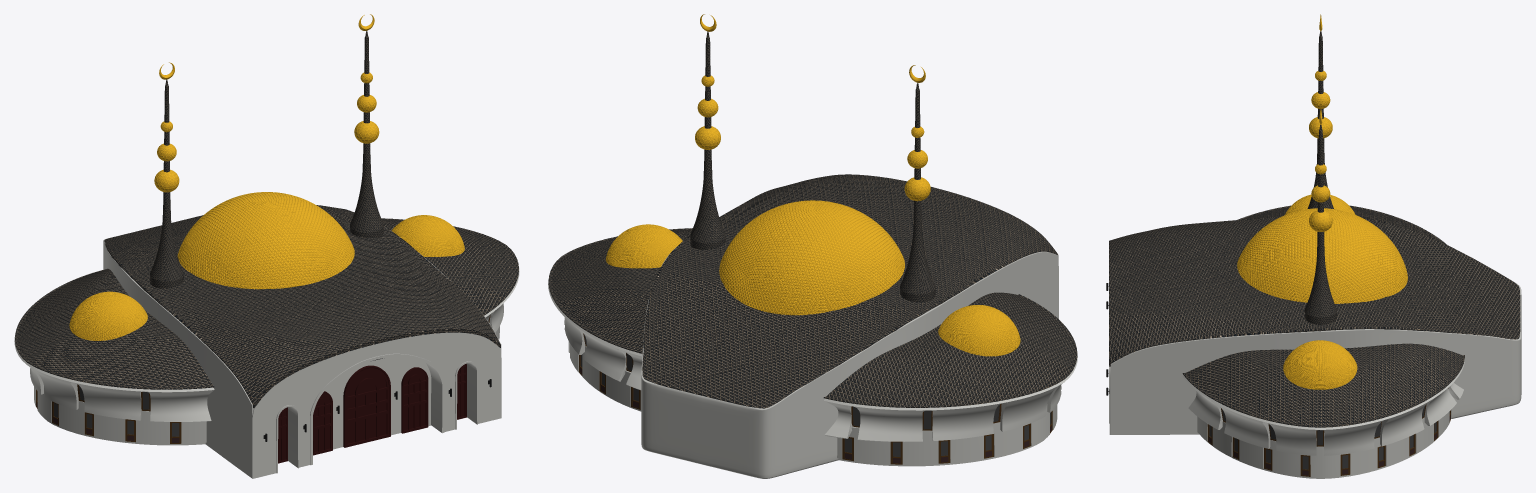
Rendered from afsonalar-vodiysi.glb.
3 views of the same model, side by side, from view 1: azimuth 30°, elevation 25°; view 2: azimuth 150°, elevation 25°; view 3: azimuth 270°, elevation 25° (orthographic). The views are drawn at different scales.
Parts seen in each view (by area): view 1: Plane, Roof Right and Left.002, Ark, Icosphere, Cube.002, tower, Icosphere.001, Cube.001, maxresdefault, maxresdefault.001, Cube.003, maxresdefault.002 (+1 smaller); view 2: Plane, Roof Right and Left.002, Cube.002, Icosphere, tower, Cube.001, Icosphere.001, Cube.004, Cube.011; view 3: Plane, Roof Right and Left.002, Cube.002, Icosphere, Cube.001, tower, Icosphere.001, Cube.004.
Boxes of the visible parts, <box> form: Plane: <box>104,205,500,408</box>; Roof Right and Left.002: <box>14,218,519,421</box>; Ark: <box>252,332,501,478</box>; Icosphere: <box>177,192,354,289</box>; Cube.002: <box>103,238,501,477</box>; tower: <box>150,14,383,288</box>; Icosphere.001: <box>69,215,464,340</box>; Cube.001: <box>34,326,499,445</box>; maxresdefault: <box>343,365,390,447</box>; maxresdefault.001: <box>313,367,428,455</box>; Cube.003: <box>325,357,431,449</box>; maxresdefault.002: <box>278,363,466,463</box>; Plane: <box>642,174,1057,408</box>; Roof Right and Left.002: <box>548,228,1077,441</box>; Cube.002: <box>641,207,1058,478</box>; Icosphere: <box>719,200,904,315</box>; tower: <box>690,14,935,302</box>; Cube.001: <box>568,341,1057,466</box>; Icosphere.001: <box>605,224,1020,356</box>; Cube.004: <box>579,354,1052,464</box>; Cube.011: <box>583,333,1001,430</box>; Plane: <box>1109,216,1520,366</box>; Roof Right and Left.002: <box>1182,205,1464,455</box>; Cube.002: <box>1110,264,1521,434</box>; Icosphere: <box>1237,208,1407,303</box>; Cube.001: <box>1197,409,1451,478</box>; tower: <box>1304,14,1336,324</box>; Icosphere.001: <box>1283,194,1357,389</box>; Cube.004: <box>1207,410,1450,476</box>.
Bounding box in the file's own units: 88.95 × 58.43 × 69.65.
Materials: 8 (1 with a texture image).
